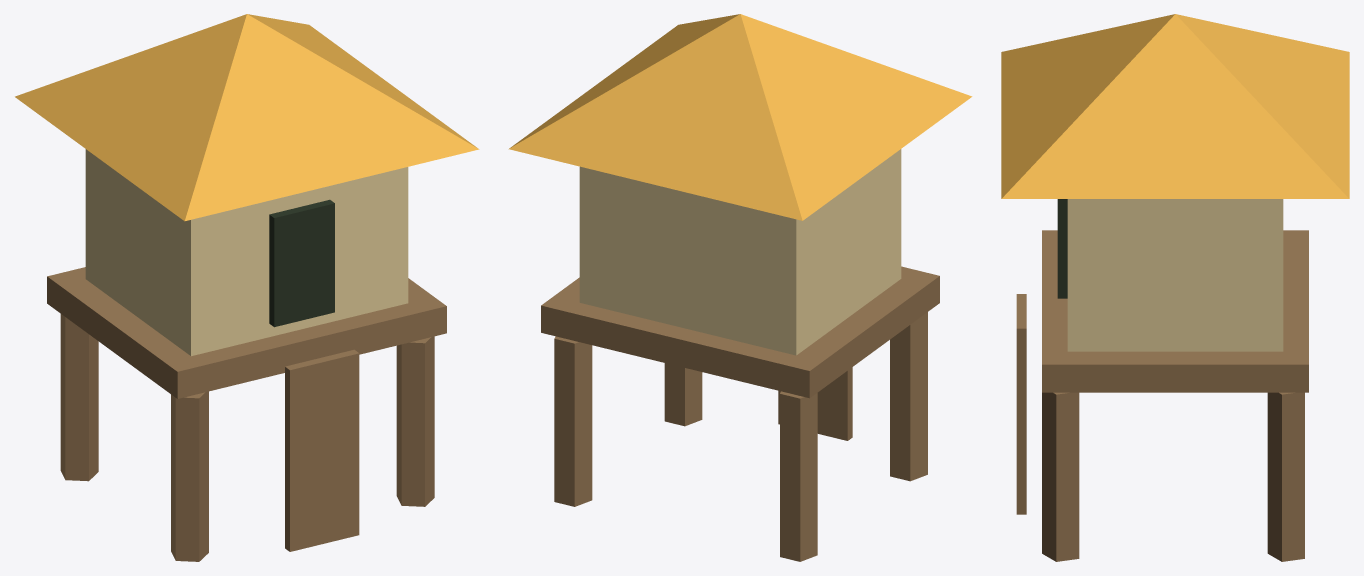
Rendered from tiki-hut.glb.
3 renders of one model, left to right at view 1: azimuth 30°, elevation 25°; view 2: azimuth 150°, elevation 25°; view 3: azimuth 270°, elevation 25°, orthographic. The views are drawn at different scales.
Visible parts, largest first — view 1: jungle-tiki-hut; view 2: jungle-tiki-hut; view 3: jungle-tiki-hut.
Part boxes in pixels (x1,y1,x2,y2): jungle-tiki-hut: [15, 14, 479, 561]; jungle-tiki-hut: [508, 14, 972, 561]; jungle-tiki-hut: [1001, 14, 1349, 561].
Size of the model in its own units: 0.4752 by 0.728 by 0.4752.
